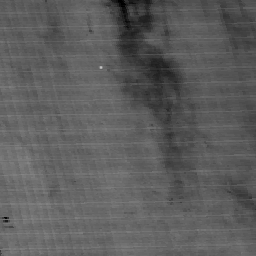Target: (97, 65, 105, 71)
